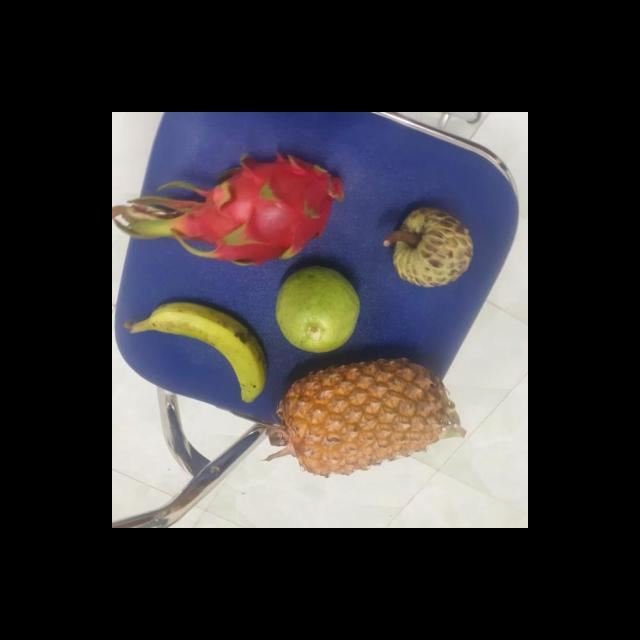Sakya fruit: (389, 208, 477, 288)
banana: (147, 296, 275, 402)
guava: (274, 266, 364, 354)
pineapple: (280, 354, 454, 474)
pitaya: (188, 154, 344, 266)
